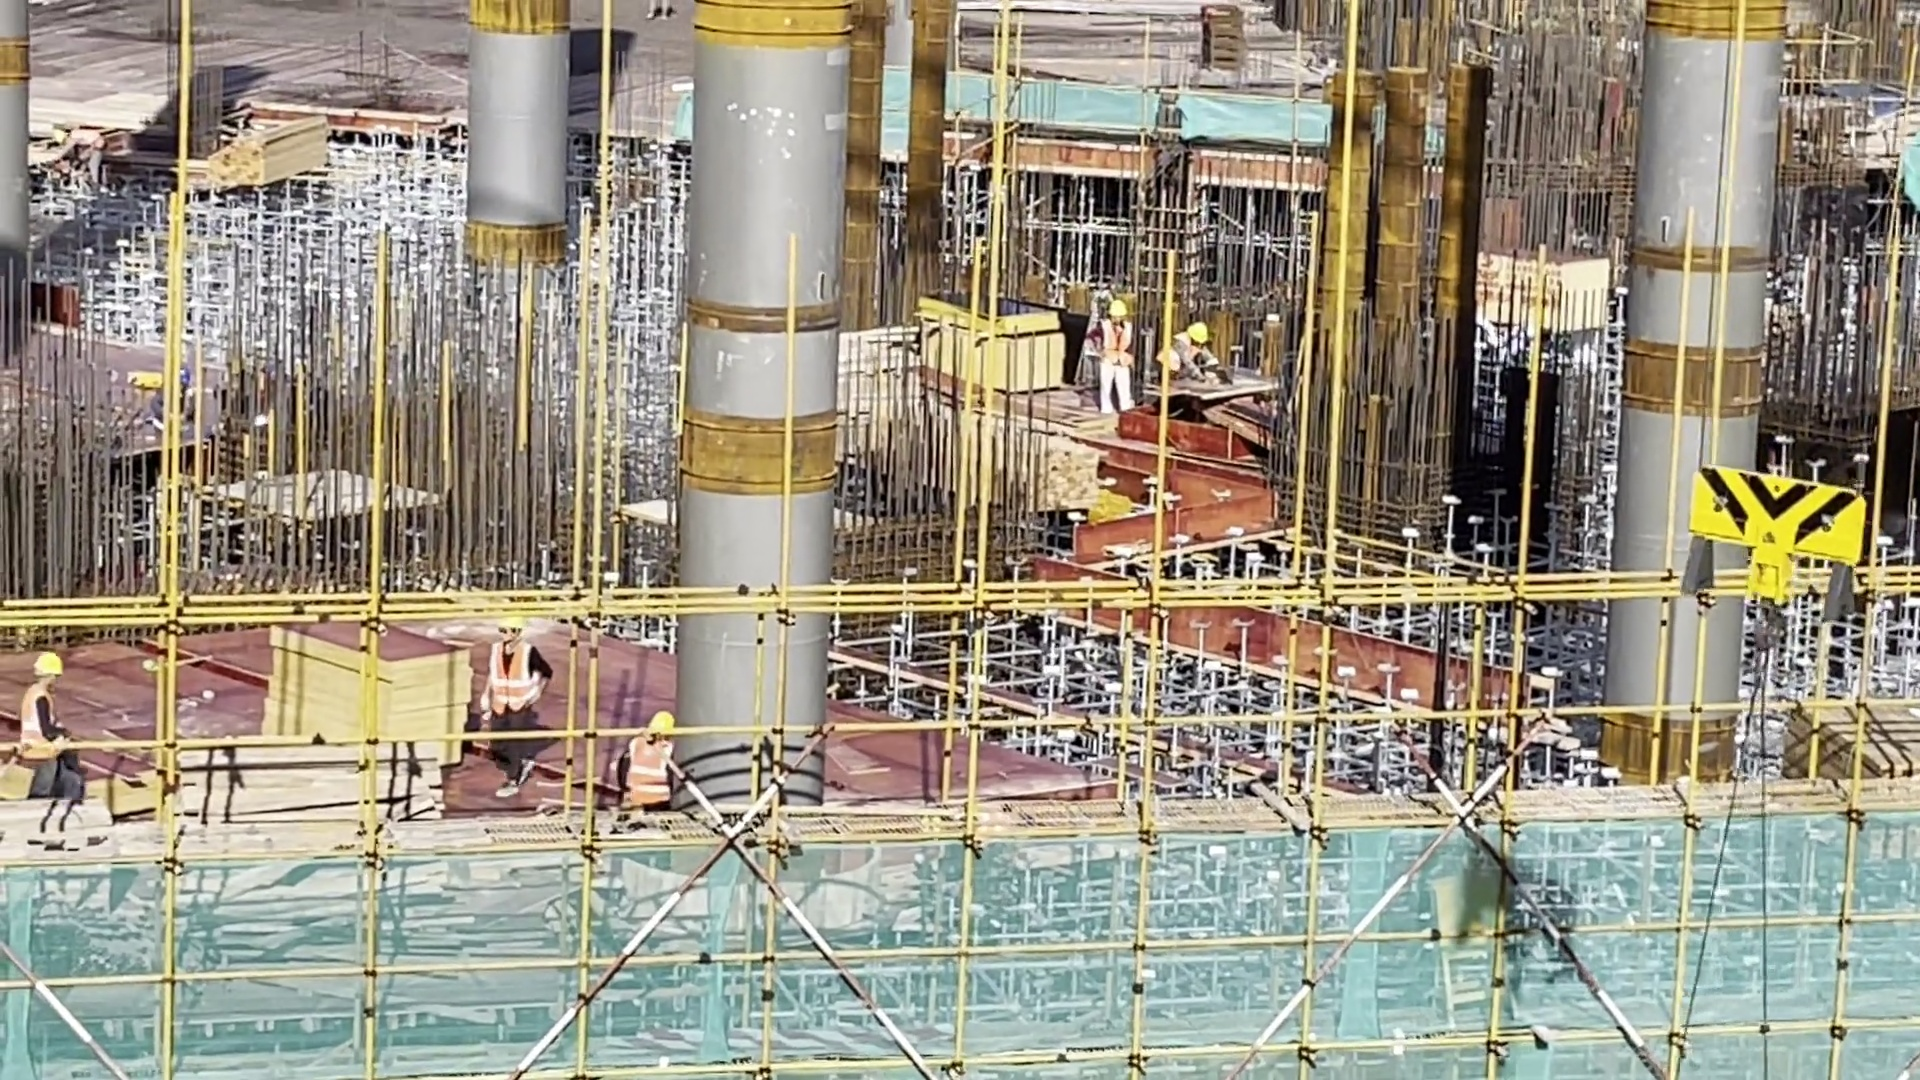board: (254, 616, 468, 786), (887, 291, 1070, 417), (1769, 699, 1920, 798)
ebox: (1425, 864, 1537, 1048)
helmet: (31, 650, 67, 686), (646, 706, 678, 745), (1184, 319, 1214, 349), (1104, 297, 1135, 320)
hook: (1676, 451, 1873, 614)
person: (475, 612, 552, 797), (22, 641, 88, 845), (606, 694, 690, 827), (1087, 291, 1145, 418), (1161, 305, 1227, 408)
vest: (487, 643, 552, 720), (619, 734, 677, 811), (24, 684, 72, 774), (1095, 315, 1137, 366)
wood: (172, 732, 445, 852), (200, 106, 344, 198)
